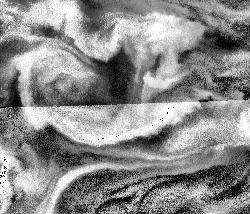CE: (17, 43, 102, 124)
